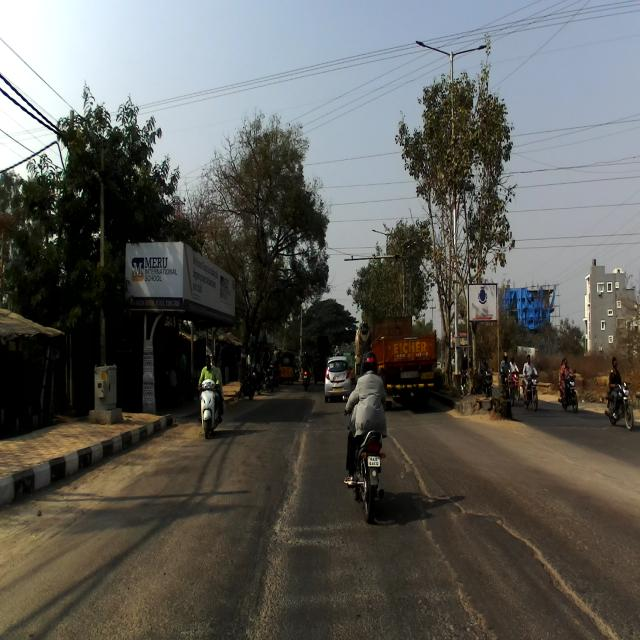motorcycle ahead at: (347, 422, 386, 523)
truck ahead at: (372, 313, 436, 406)
